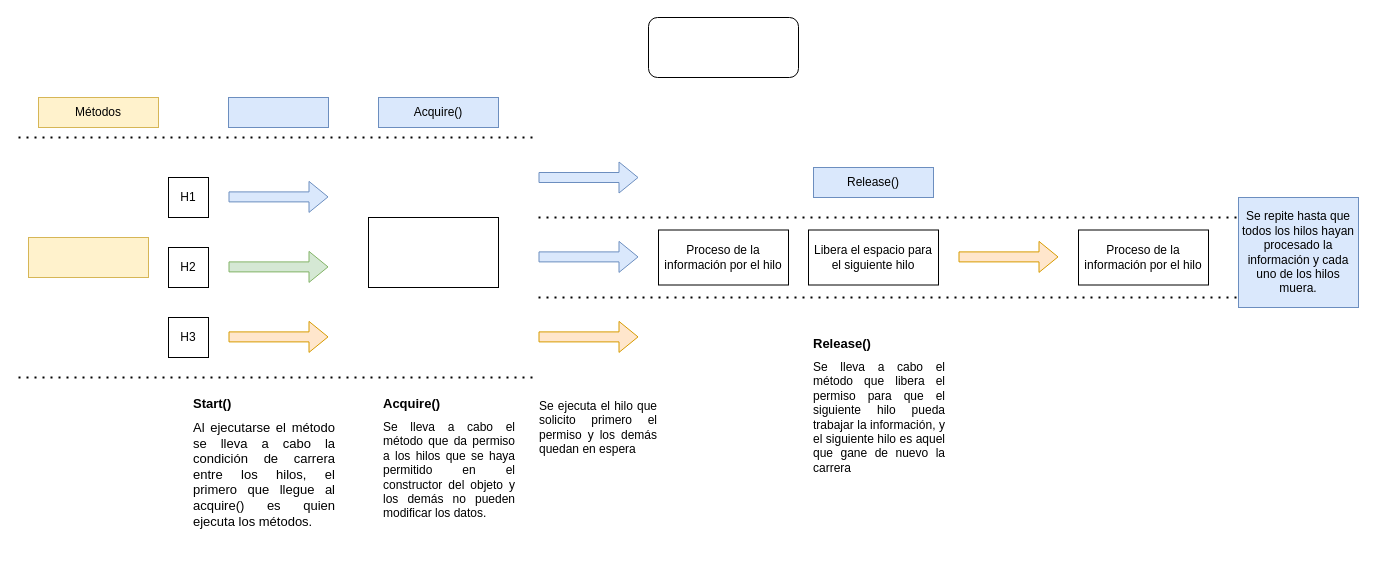
This 1376x565 diagram has some shape labels left out. The shapes that lost their labels are listed below. From the top down, each one's centre as x and y in pixels, then its label:
At [723,47]: "Semaphore(n,boolean)".
At [278,112]: "Start()".
At [88,257]: "Procesadores - Hilos".
At [433,252]: "Otorgar permiso de acceso a la variable a modificar".
